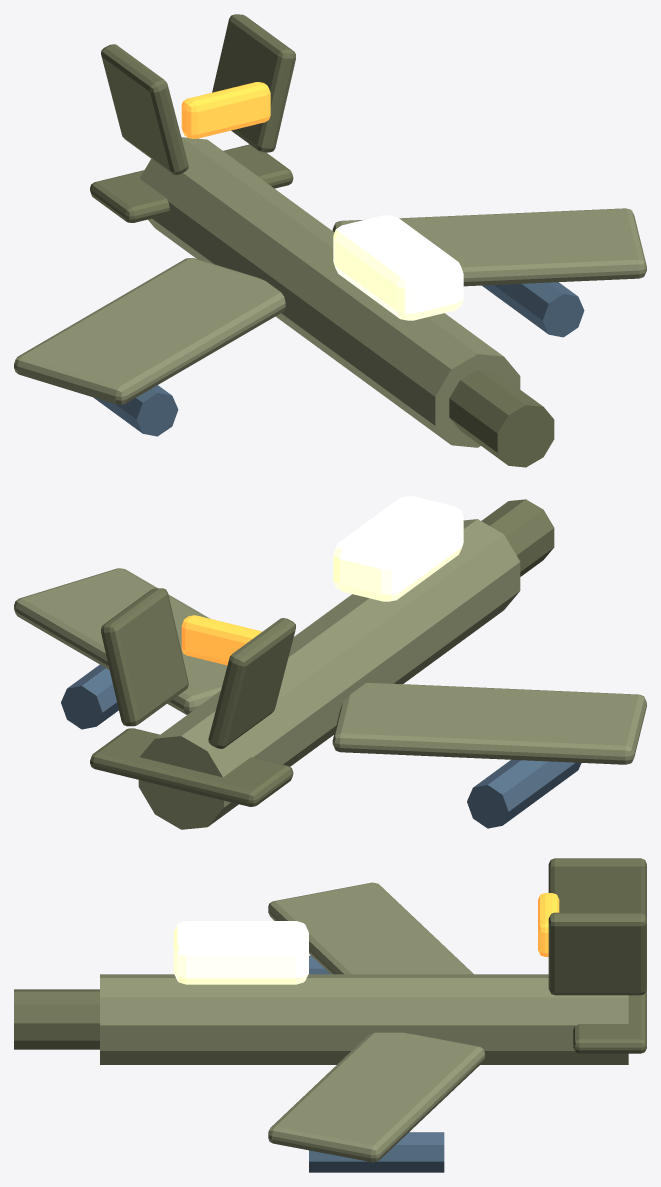
The model's file is com_strike_flyer.glb.
3 renders of one model, top to bottom at view 1: azimuth 30°, elevation 25°; view 2: azimuth 150°, elevation 25°; view 3: azimuth 270°, elevation 25°, orthographic. The views are drawn at different scales.
Visible parts, largest first — view 1: com_strike_flyer; view 2: com_strike_flyer; view 3: com_strike_flyer.
Part boxes in pixels (left/top/right/bottom): com_strike_flyer: left=14, top=14, right=646, bottom=467; com_strike_flyer: left=14, top=496, right=646, bottom=829; com_strike_flyer: left=14, top=858, right=646, bottom=1172.
Bounding box in the file's own units: 1.03 × 0.3537 × 1.03.
